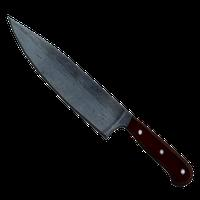knife: (4, 10, 187, 185)
